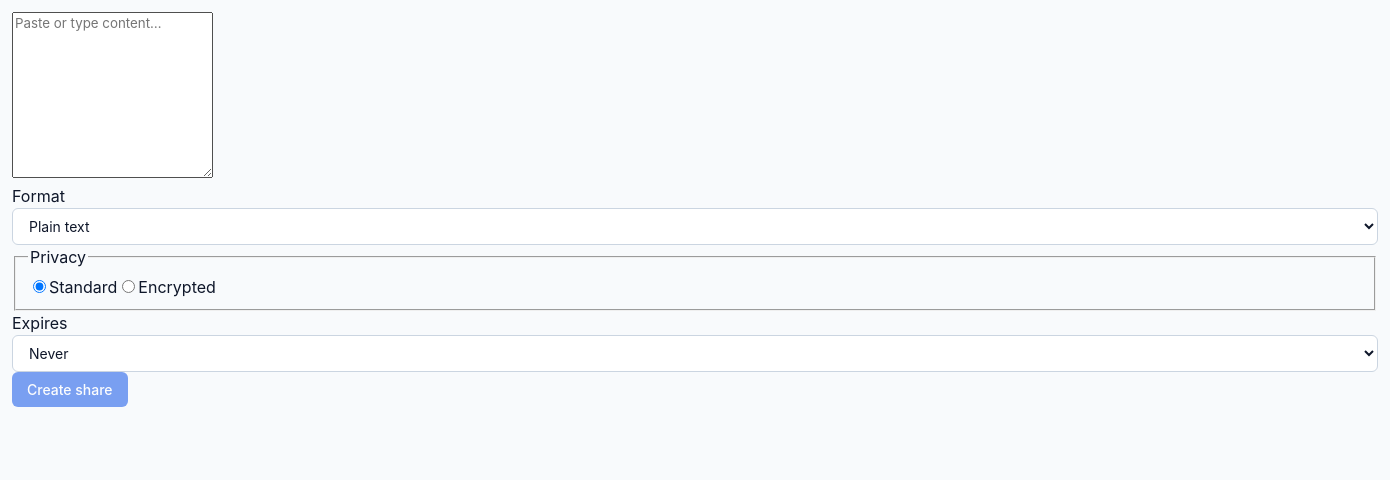
Test: TextCreateForm › preserves draft content and re-enables button after 429 rate limit error
The width and height of the screenshot is (1390, 480).
Type "my important draft" into the text box labelled "content" at (112, 95), box x1=12 y1=12 x2=213 y2=178
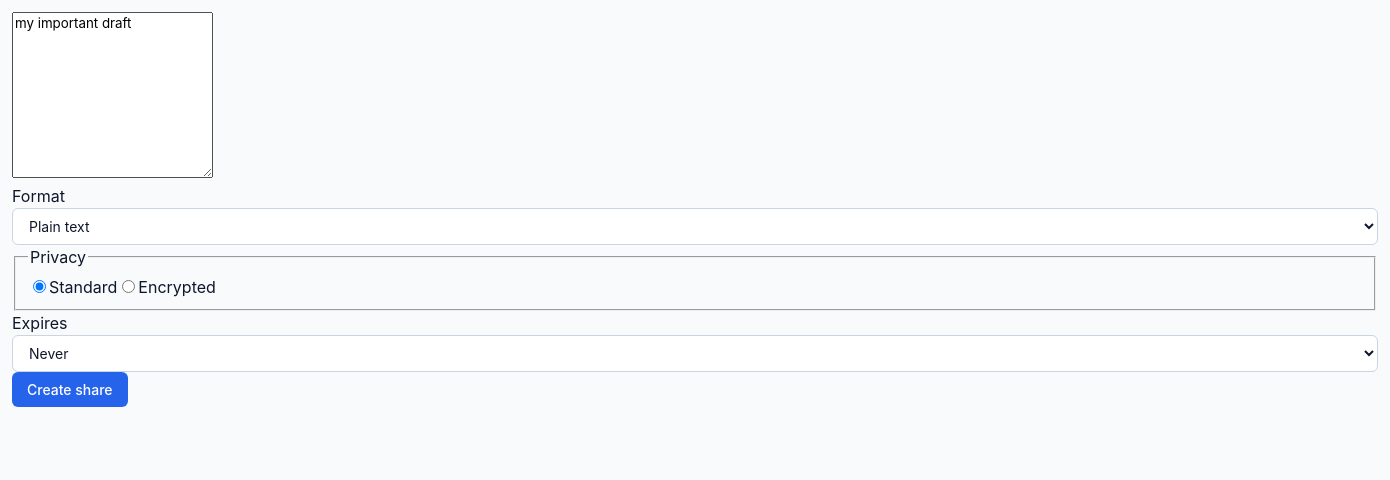
Click the button "Create share" at (70, 389), box x1=12 y1=372 x2=128 y2=407
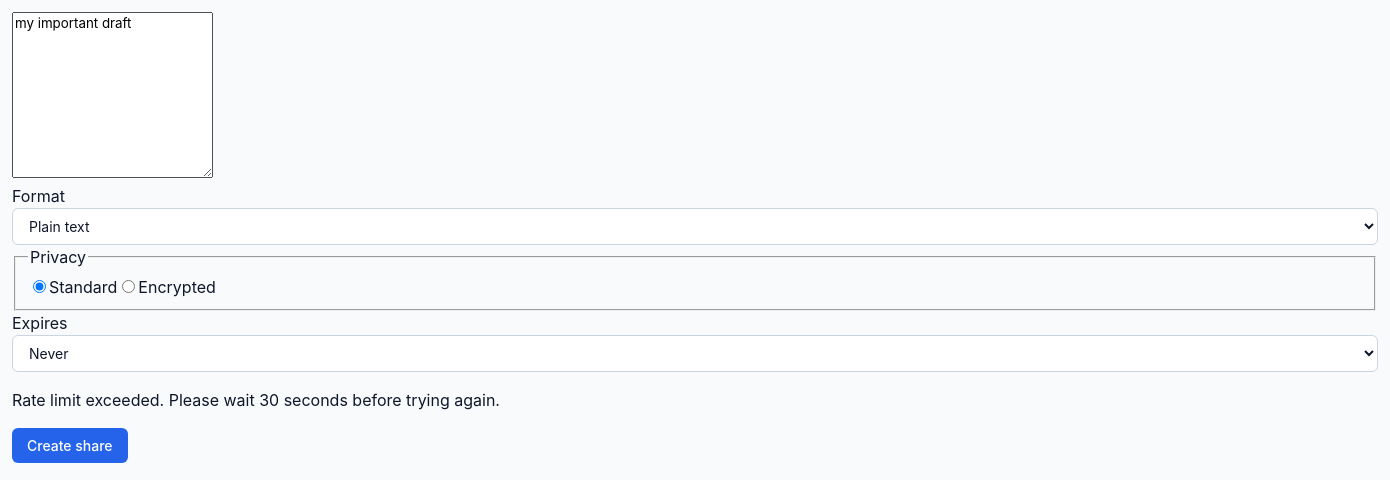
Expected: the button "Create share" is enabled, x1=12 y1=428 x2=128 y2=463
Expected: the message reads "Rate limit exceeded. Please wait 30 seconds before trying again.", x1=12 y1=390 x2=500 y2=410
